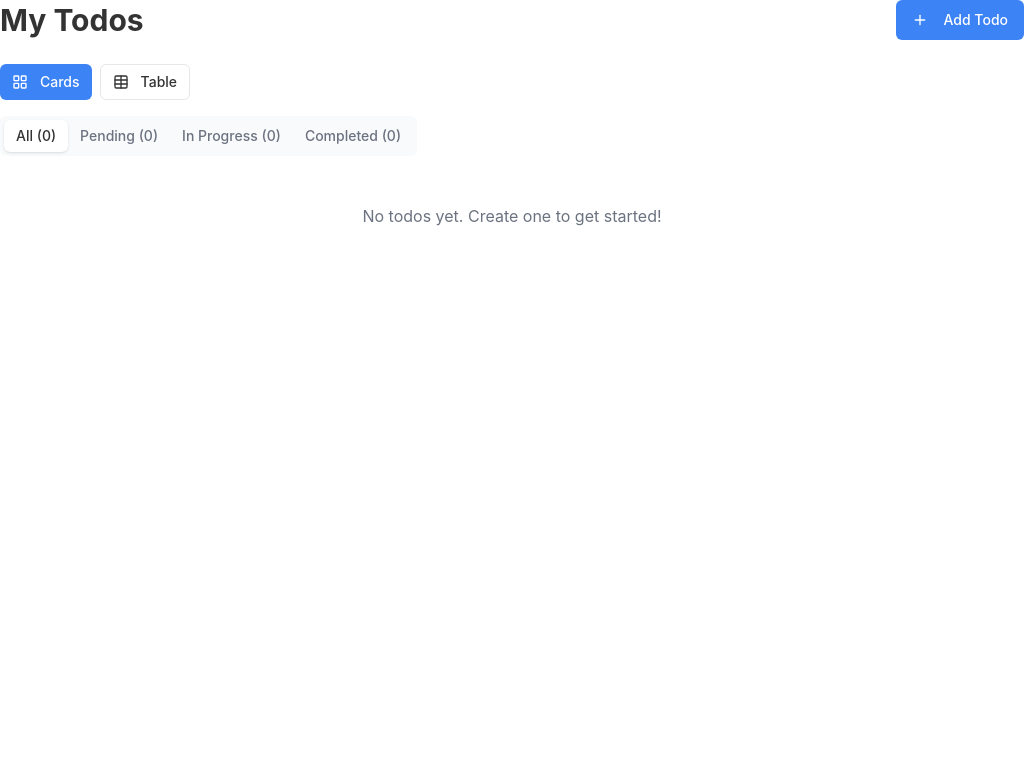
TodoList › create dialog opens and has form fields
# Open create dialog
Click the button "Add Todo" at (960, 20), box [896,0,1023,40]
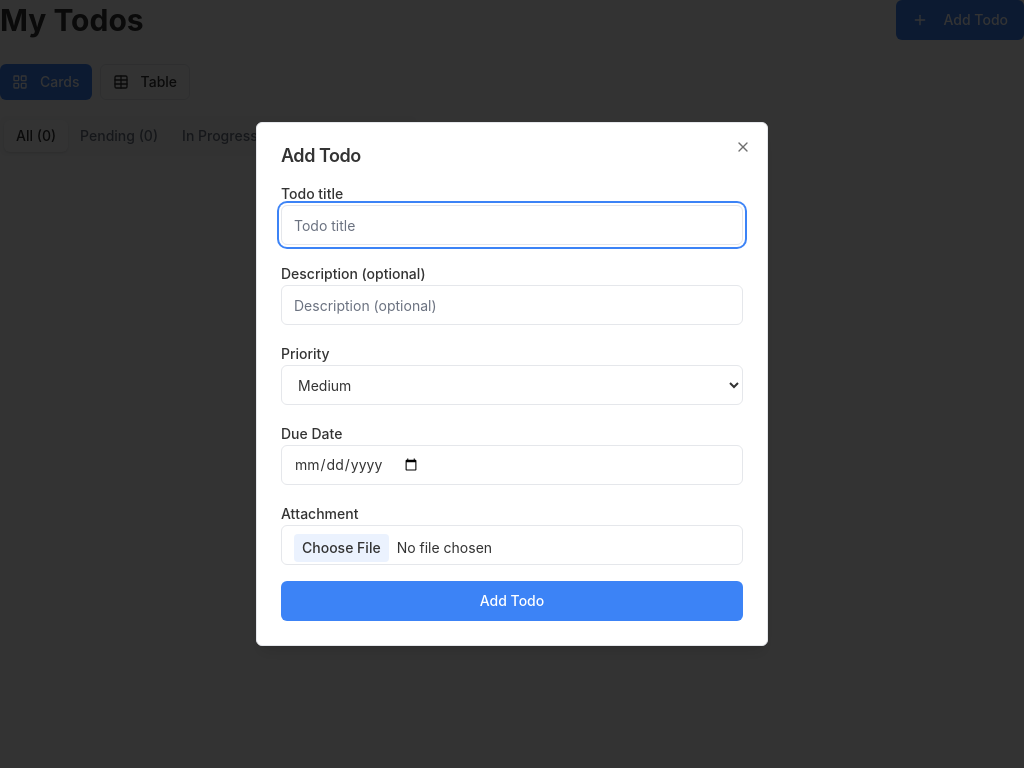
Result: the dialog is shown at [256,122,768,646]
Result: the field labelled "Todo title" is shown at [281,205,743,245]
